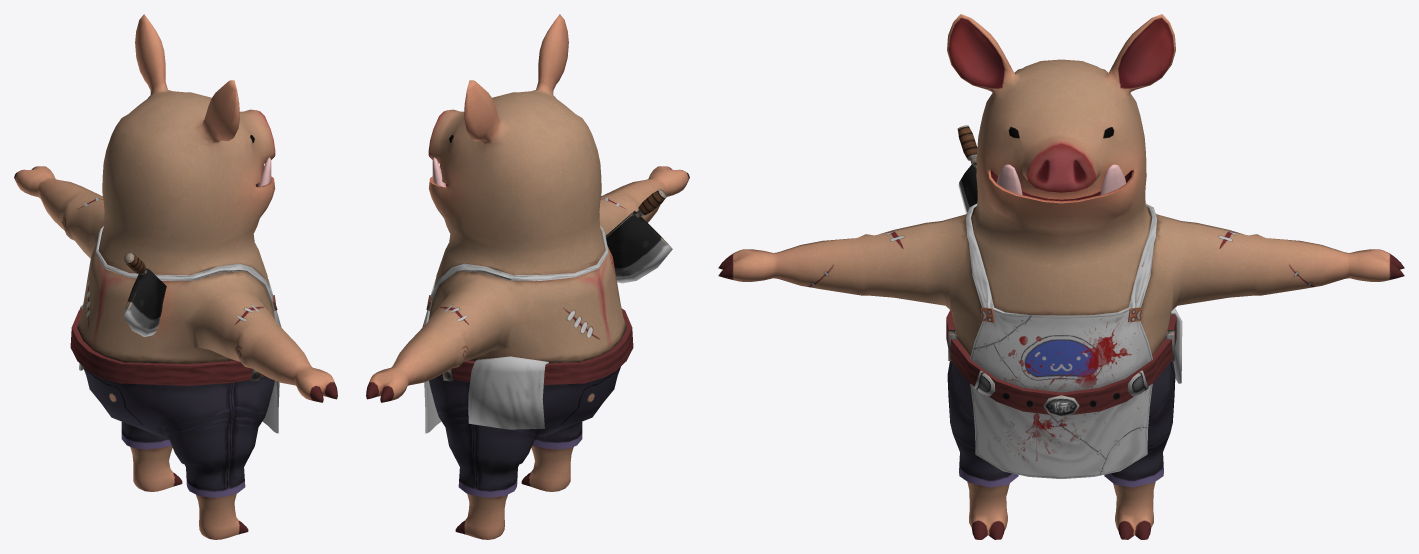
The model's file is domuz.fbx.
The picture shows the model from 3 angles, left to right: view 1: azimuth 30°, elevation 25°; view 2: azimuth 150°, elevation 25°; view 3: azimuth 270°, elevation 25°; orthographic projection. The views are drawn at different scales.
Parts seen in each view (by area): view 1: domuz; view 2: domuz; view 3: domuz.
Part boxes in pixels (bbox=[...]): domuz: bbox=[14, 14, 337, 539]; domuz: bbox=[366, 14, 689, 539]; domuz: bbox=[718, 14, 1404, 539].
Bounding box in the file's own units: 7845 × 18003 × 21769.
1 material, 1 textured.
